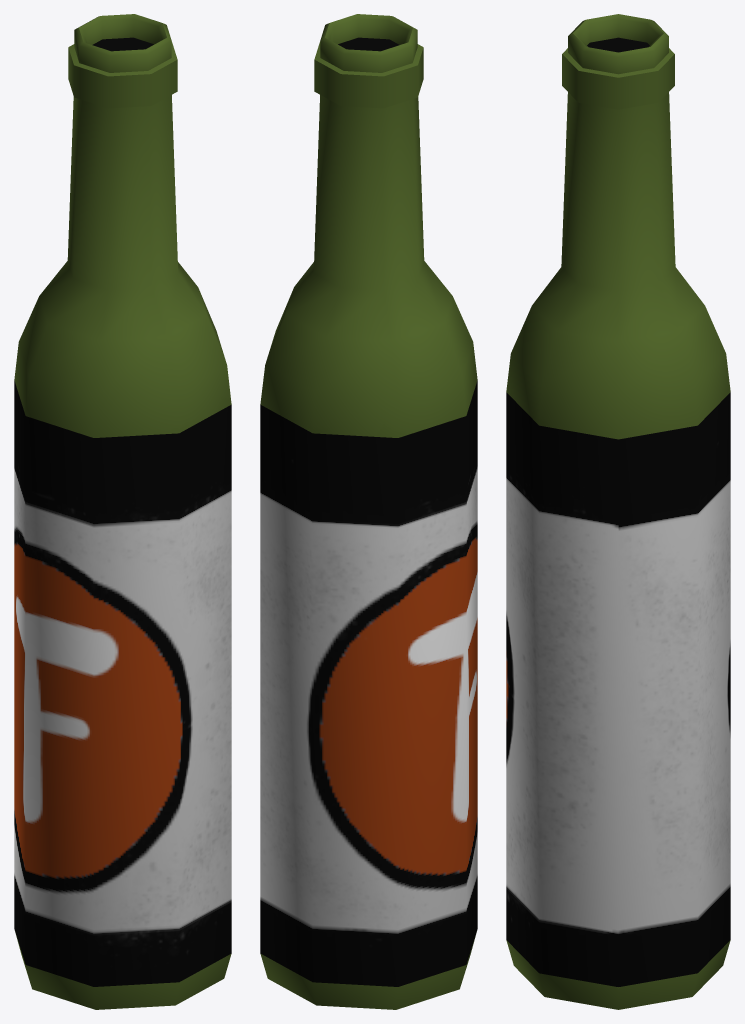
File: Bottle.fbx
3 views of the same model, side by side, from view 1: azimuth 30°, elevation 25°; view 2: azimuth 150°, elevation 25°; view 3: azimuth 270°, elevation 25° (orthographic).
Visible parts, largest first — view 1: GlassBottleCartoon; view 2: GlassBottleCartoon; view 3: GlassBottleCartoon.
Boxes of the visible parts, box(x1,y1,x2,y2) form: GlassBottleCartoon: box(14, 14, 231, 1009); GlassBottleCartoon: box(260, 14, 477, 1009); GlassBottleCartoon: box(506, 14, 730, 1009).
Size of the model in its own units: 18.98 by 87.04 by 18.98.
